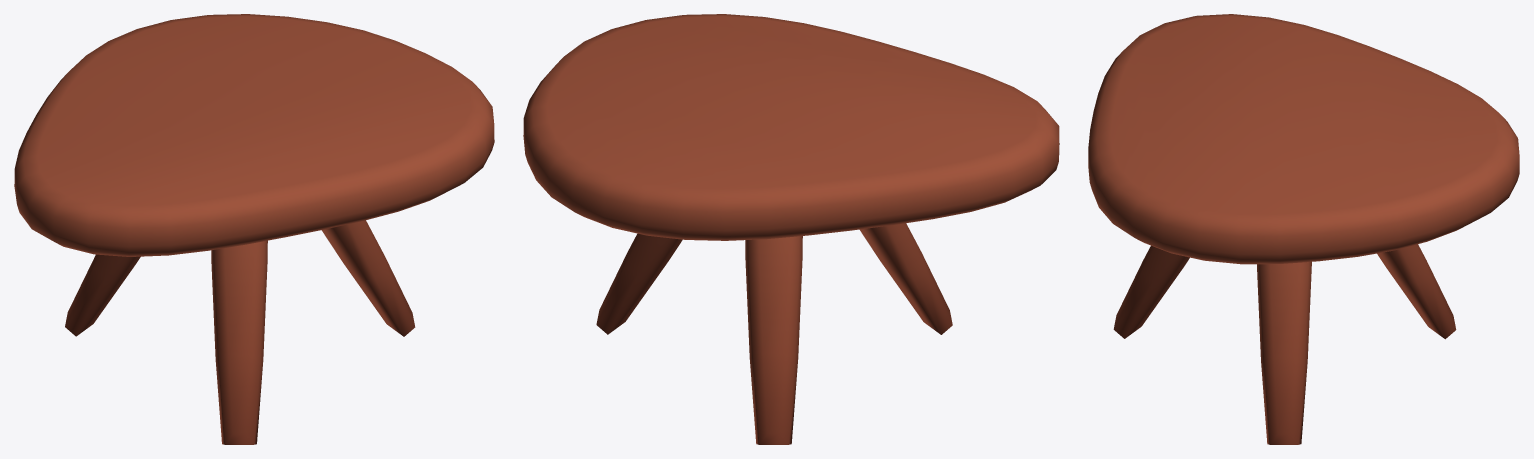
The model's file is Coffee_Table_02.glb.
3 renders of one model, left to right at view 1: azimuth 30°, elevation 25°; view 2: azimuth 150°, elevation 25°; view 3: azimuth 270°, elevation 25°, orthographic. The views are drawn at different scales.
Parts seen in each view (by area): view 1: Coffee_Table_02; view 2: Coffee_Table_02; view 3: Coffee_Table_02.
Part boxes in pixels (x1,y1,x2,y2): Coffee_Table_02: (14, 14, 494, 444); Coffee_Table_02: (523, 14, 1059, 444); Coffee_Table_02: (1088, 14, 1519, 444).
Bounding box in the file's own units: 0.7836 × 0.4211 × 0.659.
1 material, 1 textured.
